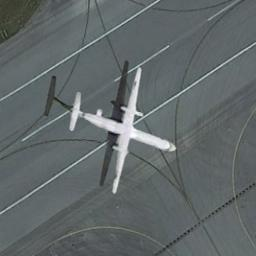Airplane: (59, 60, 184, 194)
